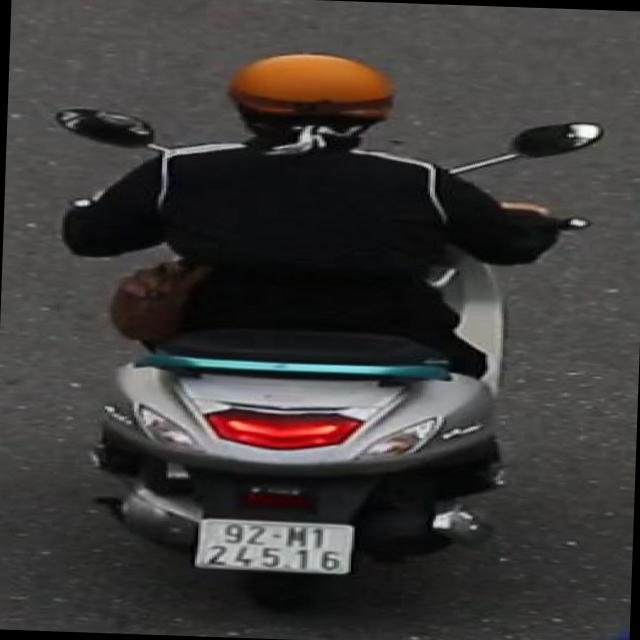LP: (188, 513, 364, 582)
helmet: (215, 46, 406, 154)
